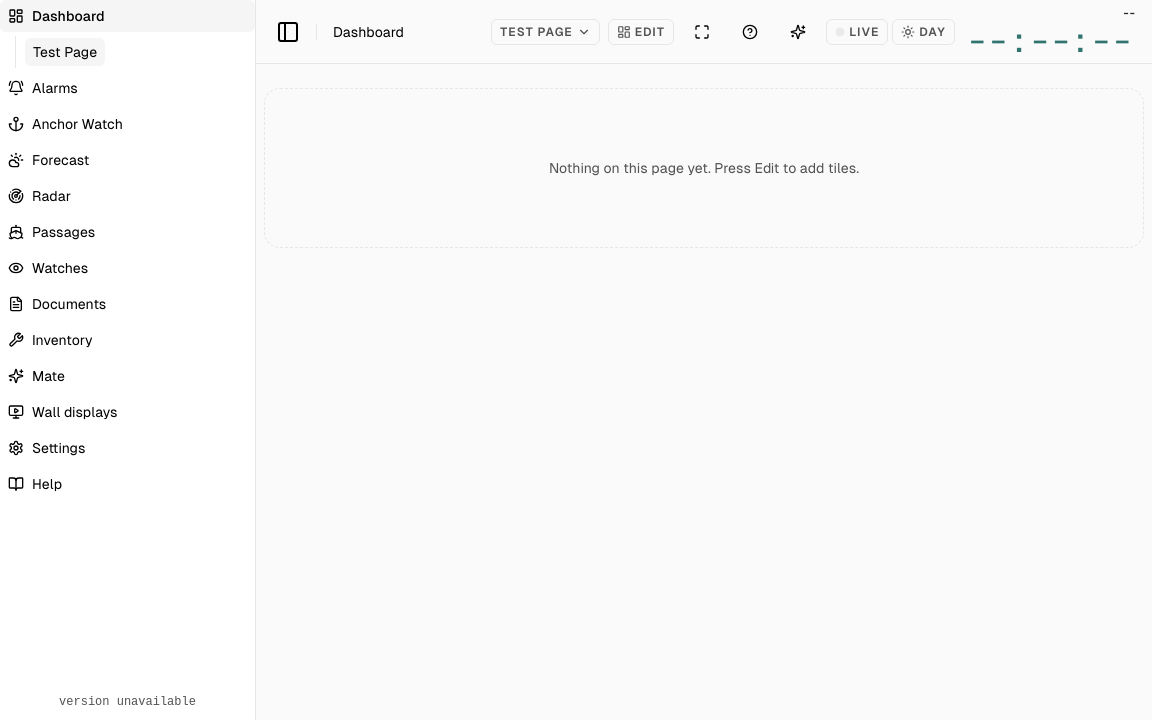
Test case: creating a dashboard page › an empty blur ends the naming session showing "Untitled page", not a blank field
Click the button with aria-label "Switch dashboard page" at (545, 32), box [491,18,600,44]
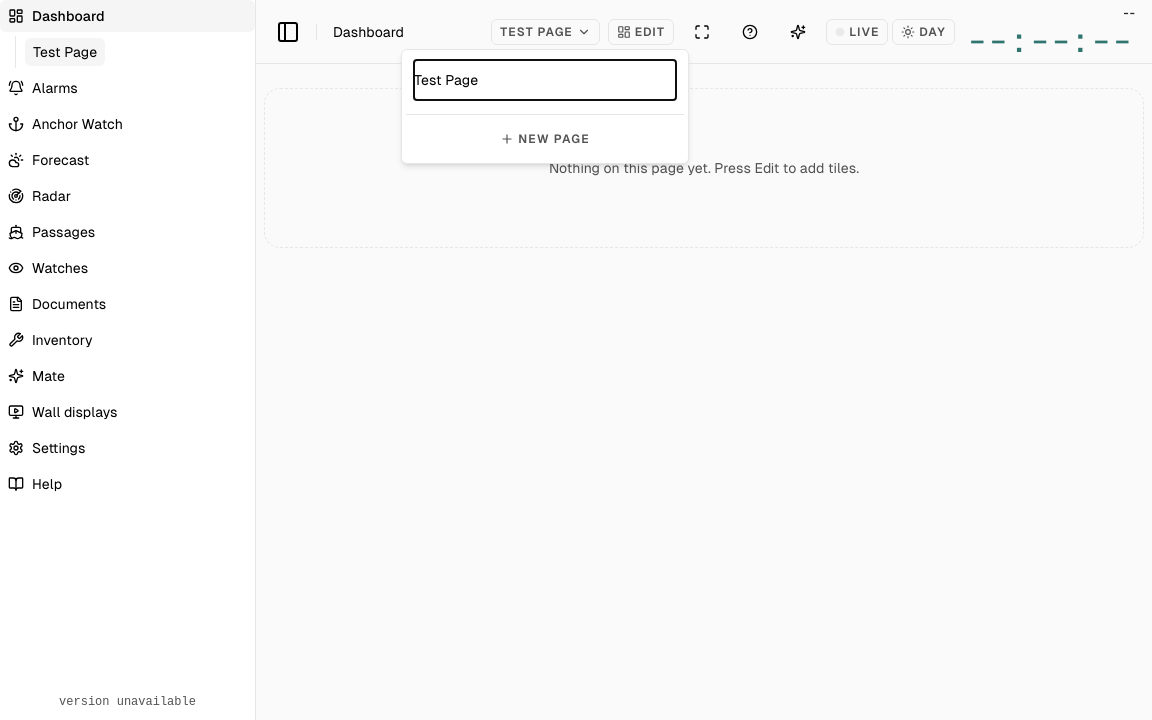
Click the button "New Page" at (545, 139), box [406,119,684,159]
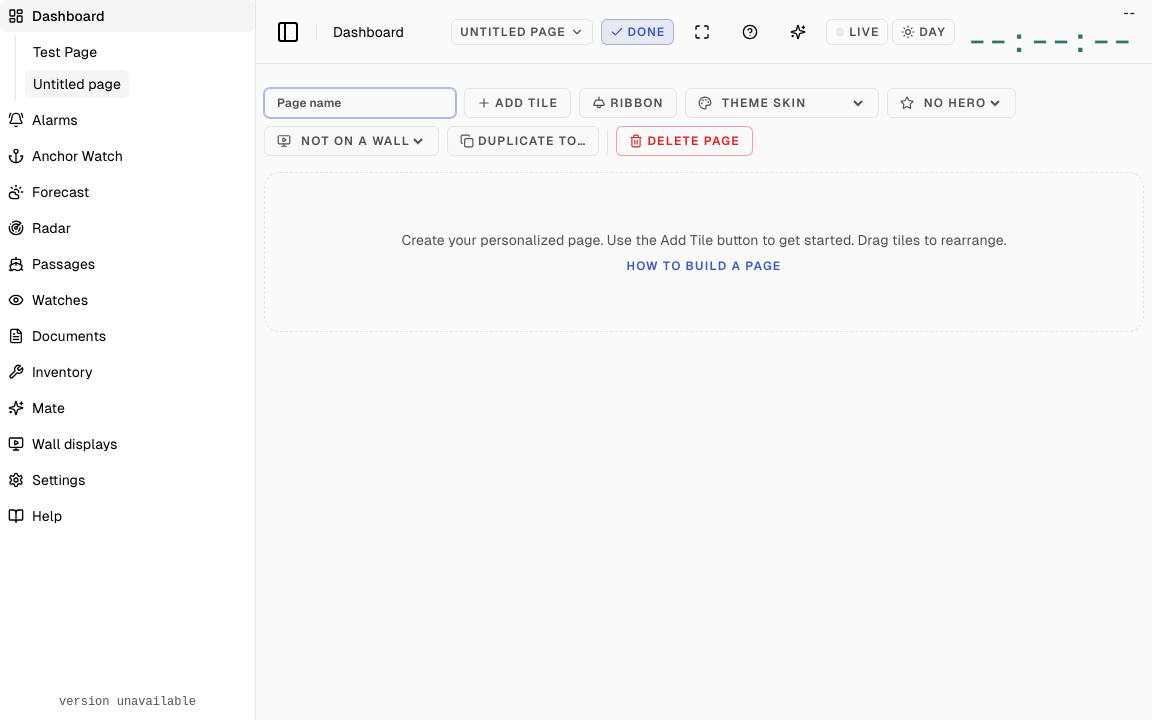
Check: the field labelled "Page name" is shown
Leave the field labelled "Page name", box [264,88,456,118]
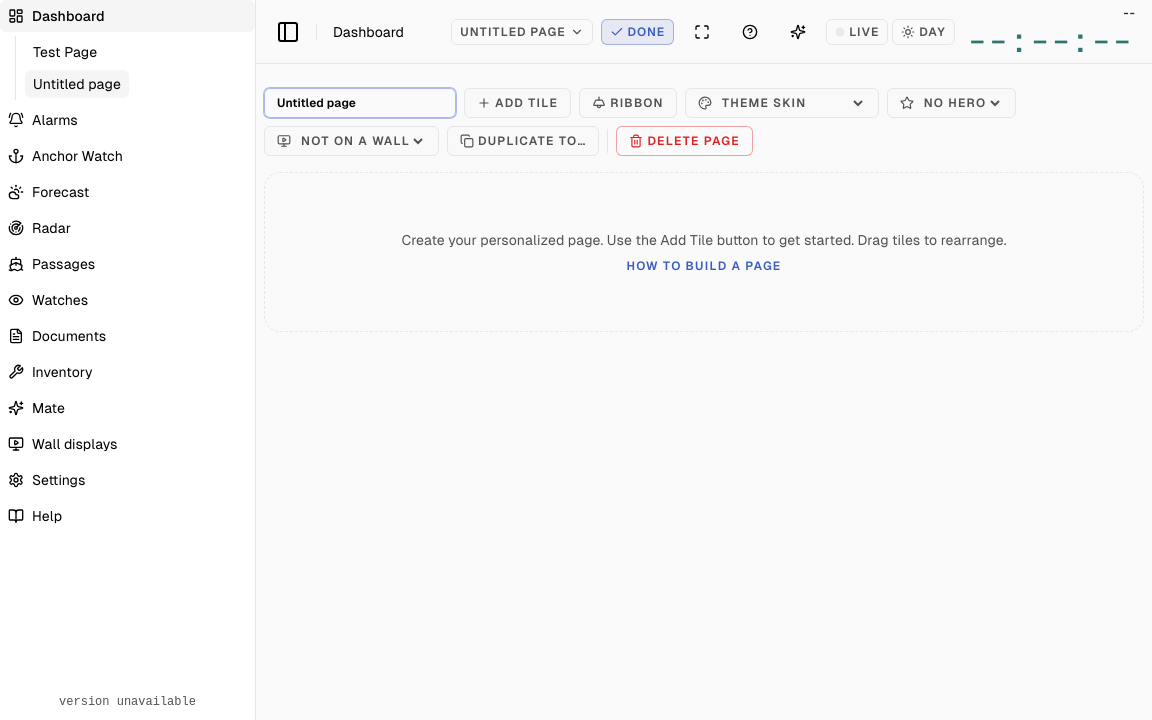
Check: the field named "Page name" holds "Untitled page", box [264,88,456,118]
